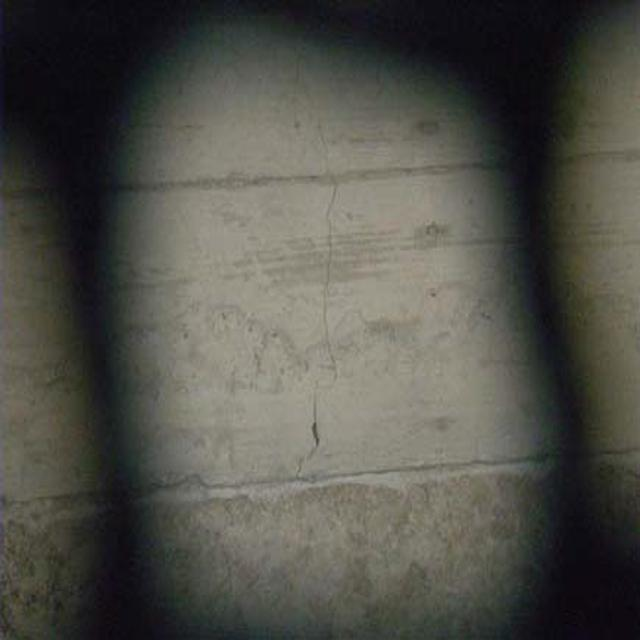crack: (292, 80, 354, 499)
